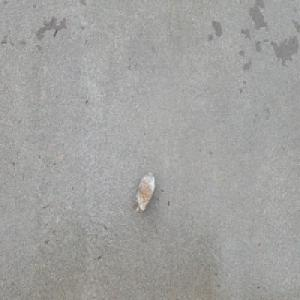Rock: (135, 170, 155, 215)
